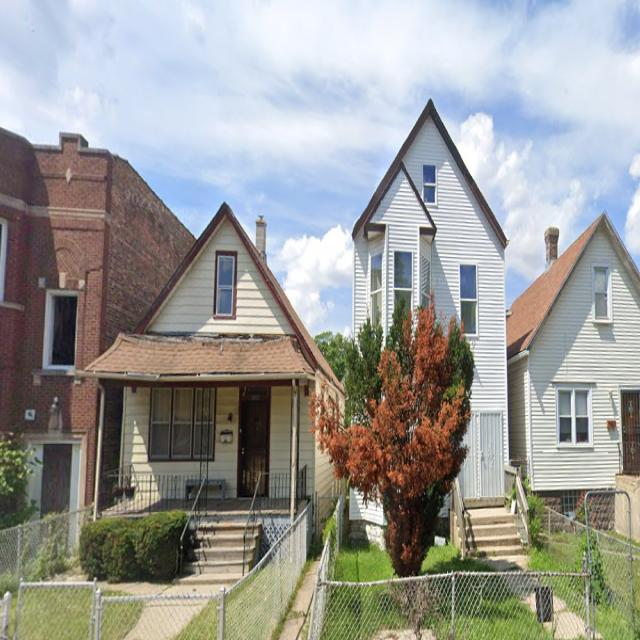House: (83, 202, 350, 591), (0, 122, 200, 572), (350, 92, 532, 560), (506, 212, 640, 528), (102, 371, 282, 379)
